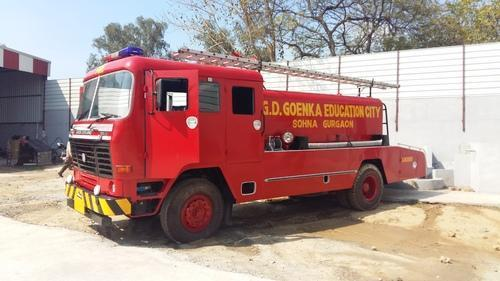Emergency-Vehicles: (67, 40, 426, 222)
